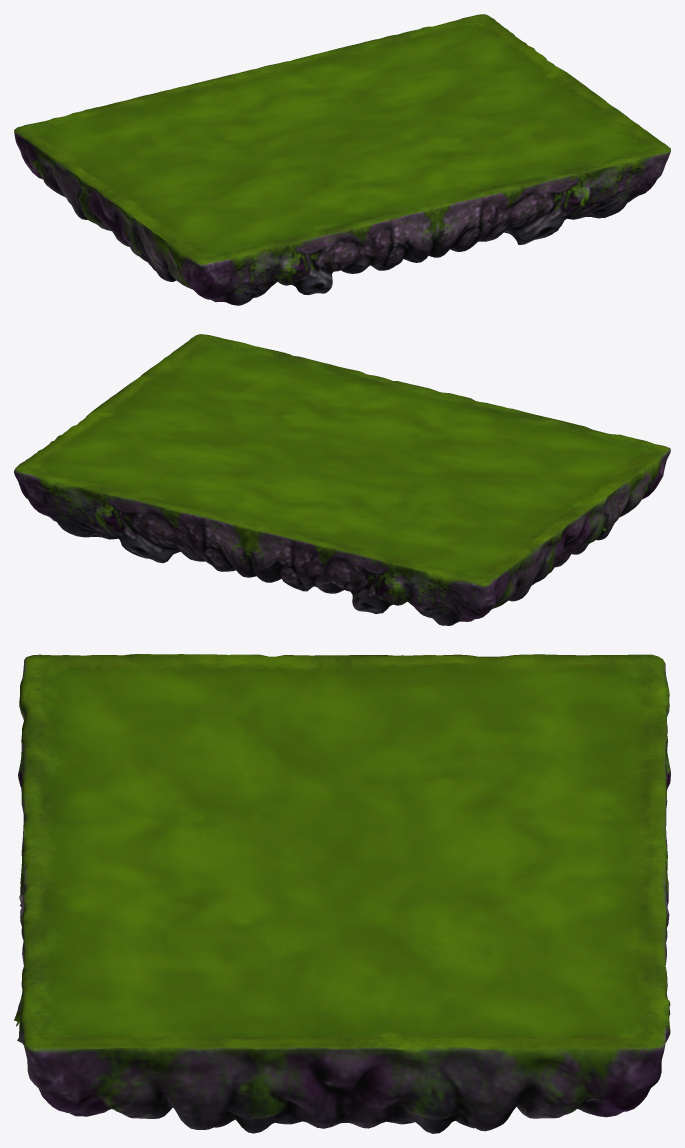
The model's file is ground.glb.
3 renders of one model, top to bottom at view 1: azimuth 30°, elevation 25°; view 2: azimuth 150°, elevation 25°; view 3: azimuth 270°, elevation 25°, orthographic. The views are drawn at different scales.
Bounding box in the file's own units: 1.9 × 0.2729 × 1.33.
1 material, 1 textured.
